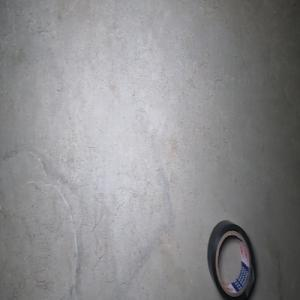Tape: (207, 219, 256, 300)
